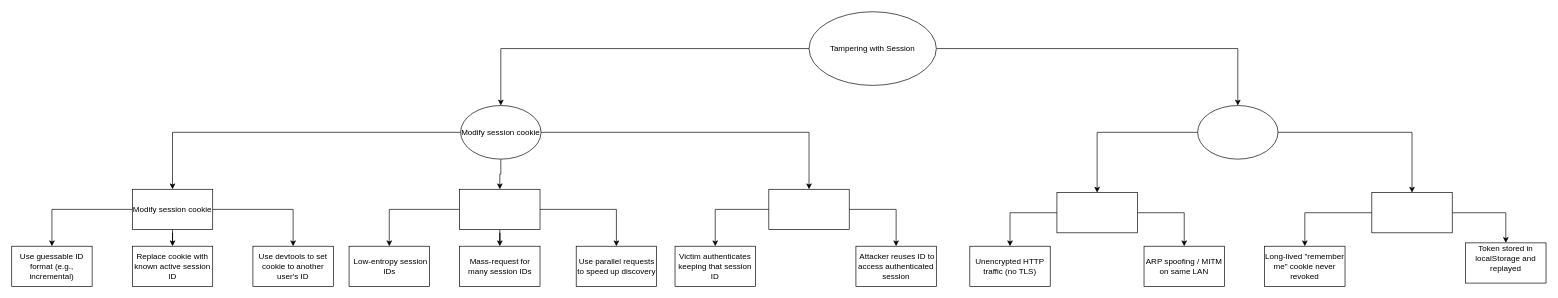
The diagram is 1558 pixels wide and 298 high, and some of its shapes have lost their labels. Each missing label, with the box of its shape:
Brute-force / enumerate session IDs: (459, 189, 540, 229)
Network capture & replay: (1056, 192, 1137, 233)
Replay stolen session token: (1197, 105, 1278, 159)
Session fixation: (768, 189, 849, 229)
Session replay via server-side backups or logs: (1371, 192, 1452, 233)
